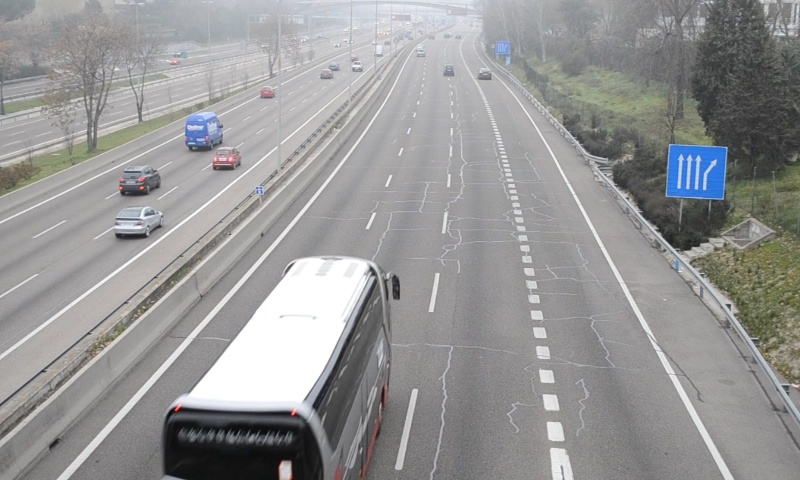bus: (162, 256, 391, 480)
car: (442, 64, 456, 78), (477, 68, 492, 81)
